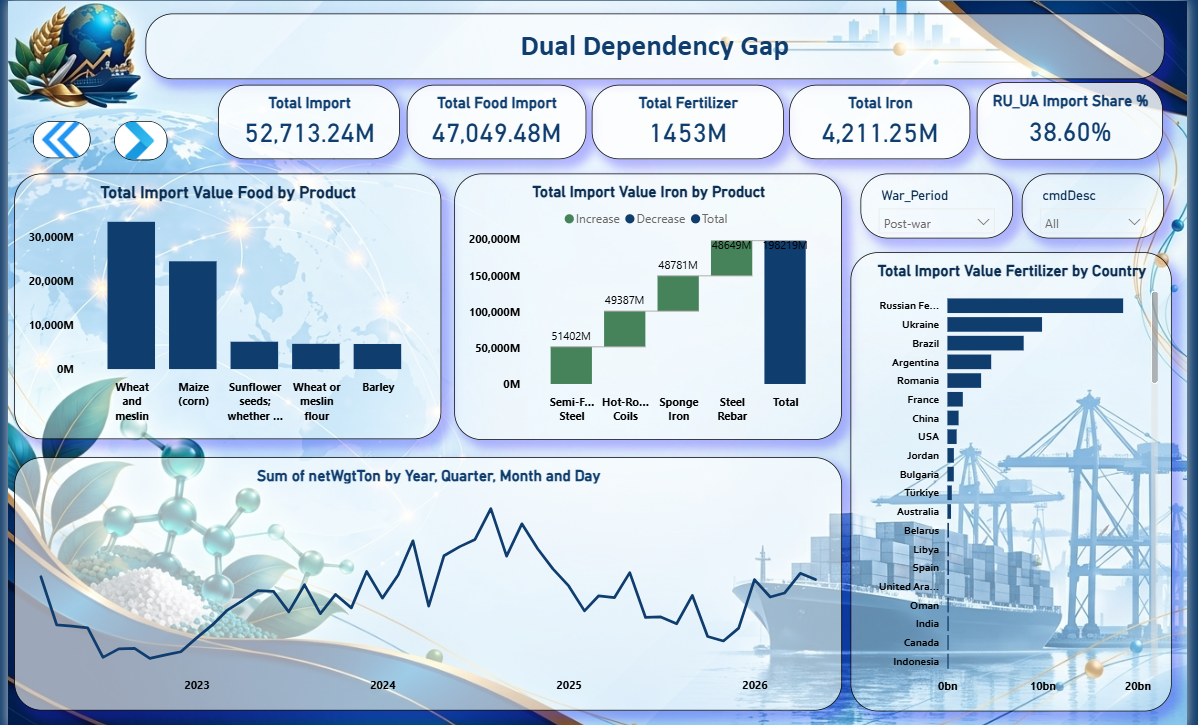

The dashboard page shown, as its layout file describes it:
{"tool":"powerbi","page":{"name":"Home ","canvas":[1291,797],"ordinal":1},"visuals":[{"type":"textbox","box":[150,13.3,1116.7,71.7],"z":0},{"type":"waterfallChart","title":"Total Import Value  Iron by Product ","fields":{"Category":["Iron Trade.cmdDesc"],"Y":["Table.Total Import Value (Food + Iron + Fertilizer)"]},"box":[489,189,425,292],"z":1000},{"type":"card","title":" Total Import ","fields":{"Values":["Table.Total Import Value (Food + Iron + Fertilizer)"]},"box":[230.5,91.3,199.4,81.8],"z":2000,"group":"g1"},{"type":"clusteredColumnChart","title":"Total Import Value Food by Product","fields":{"Y":["Table.Total Import Value (Food + Iron + Fertilizer)"],"Category":["Food Commodities.cmdDesc"]},"box":[6.6,188.8,467.7,291.1],"z":2000},{"type":"card","title":"Total Food Import","fields":{"Values":["Food Commodities.Total Food Import Value"]},"box":[436.7,91.3,196.5,81.8],"z":3000,"group":"g1"},{"type":"lineChart","fields":{"Category":["Iron Trade.period.Variation.Date Hierarchy.Year","Iron Trade.period.Variation.Date Hierarchy.Quarter","Iron Trade.period.Variation.Date Hierarchy.Month","Iron Trade.period.Variation.Date Hierarchy.Day"],"Y":["Sum(Iron Trade.netWgtTon)"]},"box":[6.9,500.6,906.9,277.8],"z":3000},{"type":"card","title":" Total  Fertilizer ","fields":{"Values":["Import Fertilizers.Total Fertilizer Import Value"]},"box":[640,91.3,210.1,81.8],"z":4000,"group":"g1"},{"type":"slicer","fields":{"Values":["Iron Trade.War_Period"]},"box":[934.4,188.8,167.2,71.4],"z":4000},{"type":"clusteredBarChart","title":"Total Import Value Fertilizer by Country","fields":{"Y":["Table.Total Import Value (Food + Iron + Fertilizer)"],"Category":["Countries.CountryName"]},"box":[922.6,274.8,352.4,503.5],"z":5000},{"type":"slicer","fields":{"Values":["Food Commodities.cmdDesc"]},"box":[1111,188.8,155.9,71.4],"z":6000},{"type":"group","id":"g1","title":"Group 1","box":[230.5,88.5,1035.9,84.6],"z":7000},{"type":"image","box":[28,132,63,41],"z":7001},{"type":"image","box":[116,131,58,43],"z":7002},{"type":"card","title":"Total Iron","fields":{"Values":["Iron Trade.Total Iron Import Value"]},"box":[856.9,91.3,198.4,81.8],"z":9000,"group":"g1"},{"type":"card","title":"RU_UA Import Share %","fields":{"Values":["Countries.RU_UA Wheat Import Share %"]},"box":[1062.1,88.5,204.3,84.6],"z":10000,"group":"g1"}]}

Visuals, with their boxes in screenshot pixels (x1, y1, x2, y2), scaled from the page's 1291x797 canvas onto the 1198x725 screenshot:
textbox: select_region(139, 12, 1175, 77)
"Total Import Value  Iron by Product " waterfallChart: select_region(454, 172, 848, 438)
" Total Import " card: select_region(214, 83, 399, 157)
"Total Import Value Food by Product" clusteredColumnChart: select_region(6, 172, 440, 437)
"Total Food Import" card: select_region(405, 83, 588, 157)
lineChart - Iron Trade.period.Variation.Date Hierarchy.Year x Iron Trade.period.Variation.Date Hierarchy.Quarter: select_region(6, 455, 848, 708)
" Total  Fertilizer " card: select_region(594, 83, 789, 157)
slicer - Iron Trade.War_Period: select_region(867, 172, 1022, 237)
"Total Import Value Fertilizer by Country" clusteredBarChart: select_region(856, 250, 1183, 708)
slicer - Food Commodities.cmdDesc: select_region(1031, 172, 1176, 237)
"Group 1" group: select_region(214, 81, 1175, 157)
image: select_region(26, 120, 84, 157)
image: select_region(108, 119, 161, 158)
"Total Iron" card: select_region(795, 83, 979, 157)
"RU_UA Import Share %" card: select_region(986, 81, 1175, 157)
